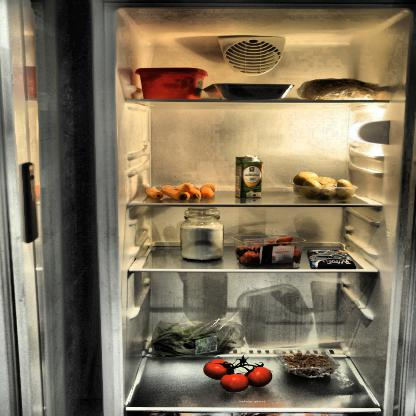butter: (135, 66, 207, 102)
carrot: (142, 182, 220, 200)
chocolate: (310, 246, 360, 270)
green_beans: (152, 321, 235, 358)
heavy_cream: (233, 155, 263, 201)
potato: (291, 171, 361, 201)
shrimp: (281, 350, 340, 377)
strawberries: (232, 234, 306, 264)
tomato: (203, 358, 276, 388)
